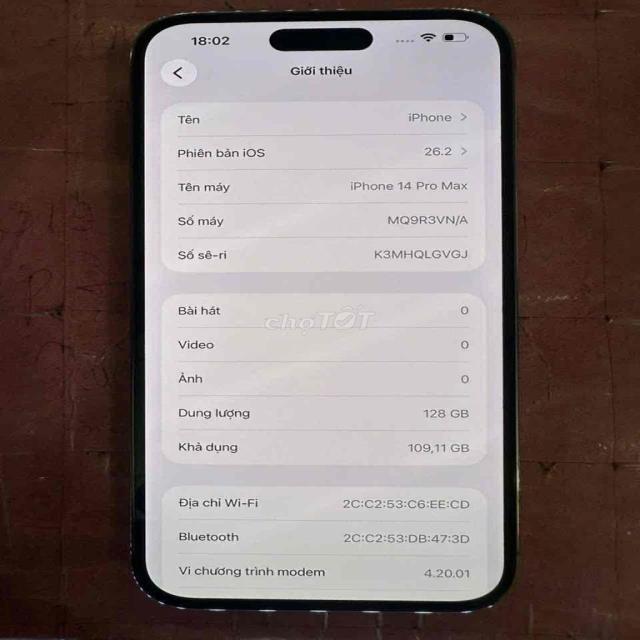gen_14: (118, 0, 531, 629)
